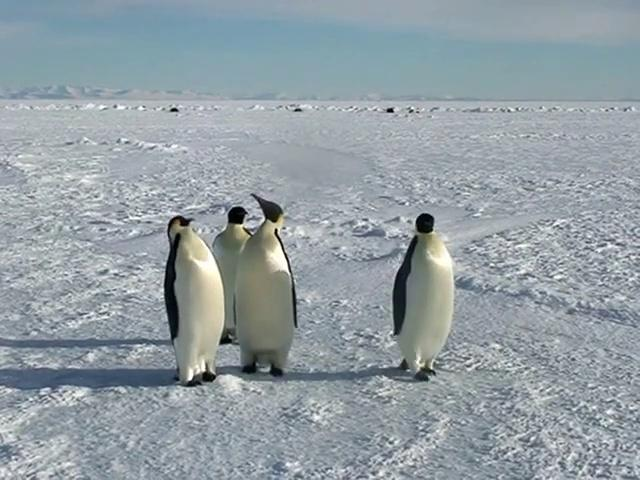animal: (393, 213, 453, 380)
